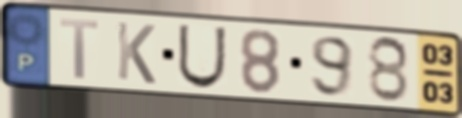8: (365, 35, 413, 106), (237, 27, 283, 95)
9: (308, 34, 356, 98)
K: (114, 19, 158, 87)
T: (57, 16, 102, 82)
U: (175, 22, 229, 91)
